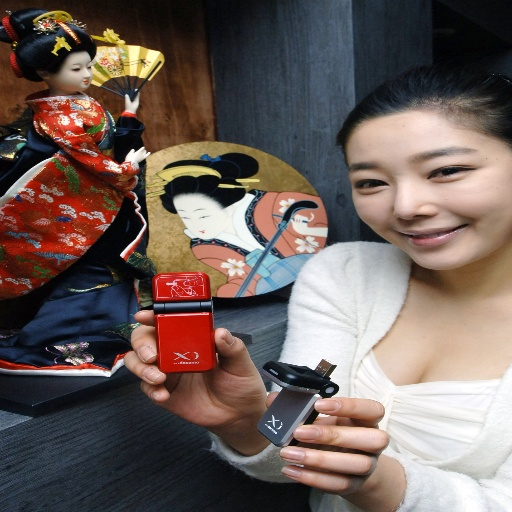hand: (119, 309, 268, 430), (268, 391, 390, 496), (122, 145, 151, 162), (289, 212, 308, 232), (124, 88, 139, 113)
